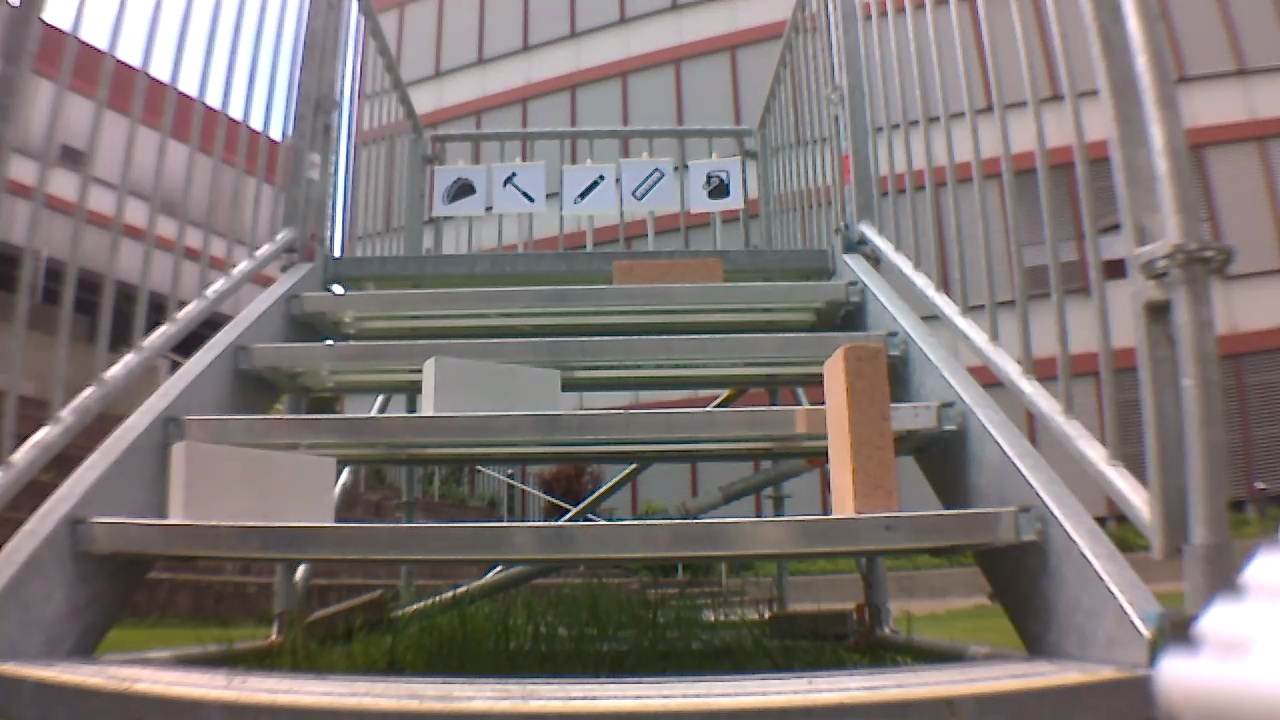brick: (168, 442, 334, 523), (826, 344, 897, 514), (422, 355, 560, 412), (612, 258, 720, 284)
bucket: (697, 162, 734, 204)
edge: (1, 673, 1147, 719), (72, 510, 1045, 559), (163, 402, 967, 438), (231, 332, 914, 361), (290, 282, 861, 309), (330, 249, 831, 273)
hammer: (495, 166, 538, 207)
pencil: (565, 167, 611, 209)
ruler: (628, 161, 671, 206)
stairs: (1, 1, 1255, 717)
steps: (2, 243, 1164, 720)
taco: (434, 170, 480, 209)
